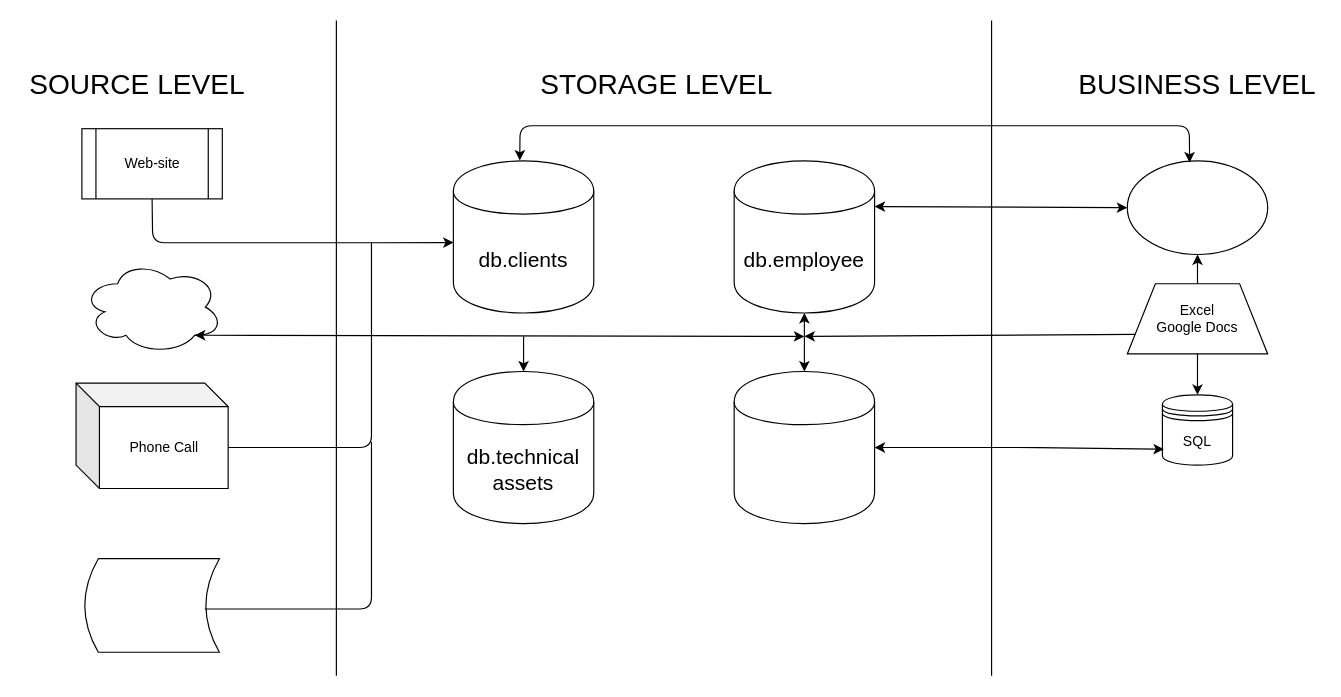
Image size: 1341x697. Some labels were removed from this diagram. The shapes that lost their labels are listed below. From the top down, each one's centre as x and y in pixels, then its label:
At (x=1197, y=207): "Power BI".
At (x=152, y=306): "1C".
At (x=804, y=447): "db.contractors".
At (x=151, y=605): "Yandex. Metrics".
